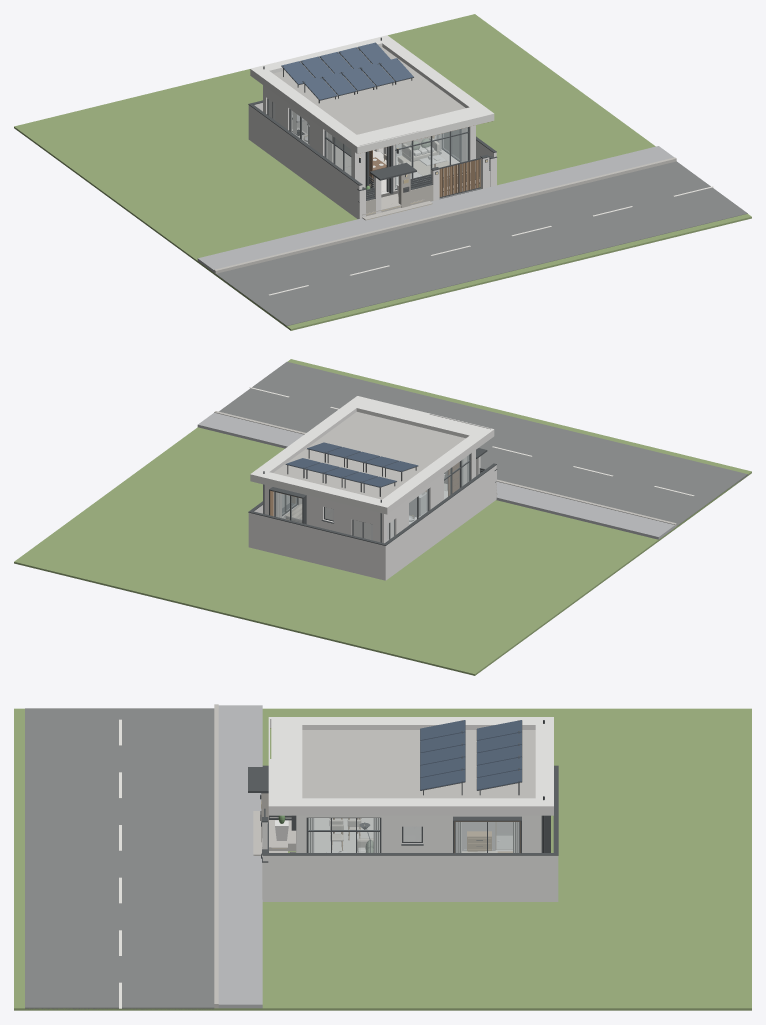
3 renders of one model, top to bottom at view 1: azimuth 30°, elevation 25°; view 2: azimuth 150°, elevation 25°; view 3: azimuth 270°, elevation 25°, orthographic. The views are drawn at different scales.
Visible parts, largest first — view 1: world, roof-gravel, roof-overhang, roof-upstand, exterior-porch-01-slab, F0-W002/0; view 2: world, roof-gravel, roof-overhang, roof-upstand, F0-W007/2, exterior-porch-01-slab; view 3: world, roof-gravel, roof-overhang, roof-upstand, F0-living/floor, exterior-porch-01-slab, F0-W021/1, F0-W019/0, exterior-gate-canopy.
Boxes of the visible parts, x1,y1,x2,y2 form: world: [14, 14, 751, 330]; roof-gravel: [273, 47, 465, 134]; roof-overhang: [250, 35, 494, 153]; roof-upstand: [263, 40, 475, 137]; exterior-porch-01-slab: [350, 124, 420, 145]; F0-W002/0: [359, 125, 475, 192]; world: [14, 359, 751, 675]; roof-gravel: [273, 412, 465, 499]; roof-overhang: [250, 396, 494, 514]; roof-upstand: [264, 405, 475, 502]; F0-W007/2: [336, 502, 379, 525]; exterior-porch-01-slab: [420, 414, 490, 435]; world: [14, 704, 751, 1010]; roof-gravel: [302, 730, 535, 798]; roof-overhang: [268, 717, 553, 815]; roof-upstand: [296, 722, 541, 800]; F0-living/floor: [314, 818, 373, 852]; exterior-porch-01-slab: [271, 719, 296, 758]; F0-W021/1: [439, 817, 535, 852]; F0-W019/0: [302, 817, 397, 852]; exterior-gate-canopy: [248, 767, 268, 792].
Bounding box in the file's own units: 25.7 × 4.34 × 26.67.
